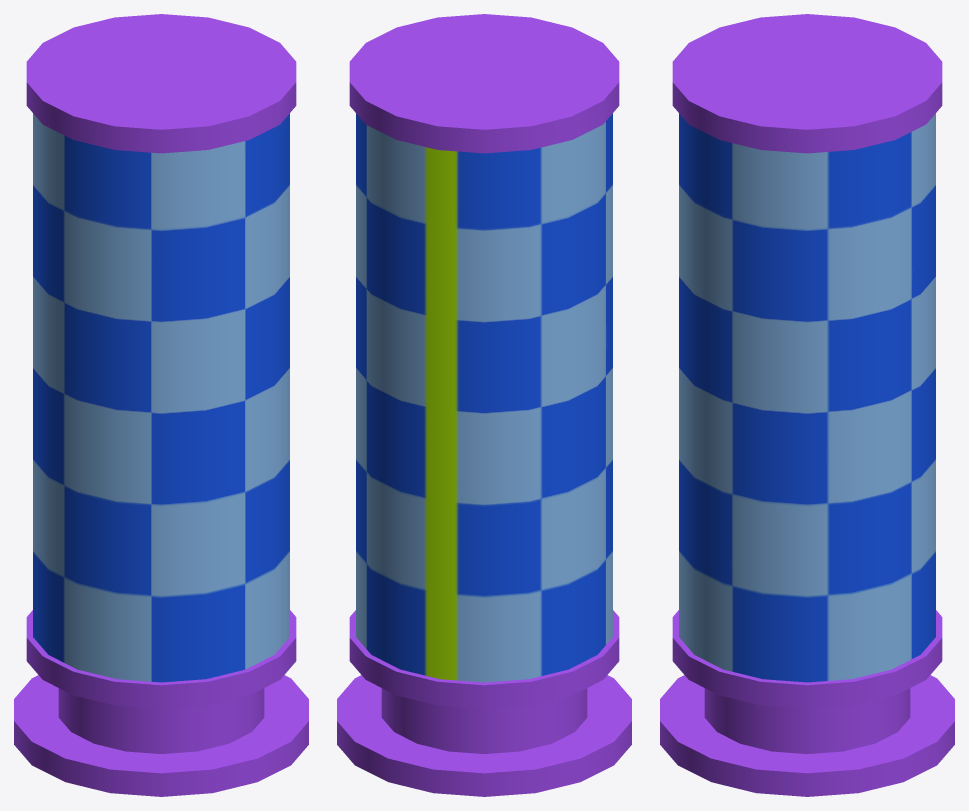
File: LightTable01_1.FBX
3 renders of one model, left to right at view 1: azimuth 30°, elevation 25°; view 2: azimuth 150°, elevation 25°; view 3: azimuth 270°, elevation 25°, orthographic.
Visible parts, largest first — view 1: LightTable01_1; view 2: LightTable01_1; view 3: LightTable01_1.
Part boxes in pixels (left/top/right/bottom): LightTable01_1: left=14, top=14, right=308, bottom=796; LightTable01_1: left=337, top=14, right=631, bottom=796; LightTable01_1: left=660, top=14, right=954, bottom=796.
Size of the model in its own units: 10.29 by 25.09 by 10.13.
